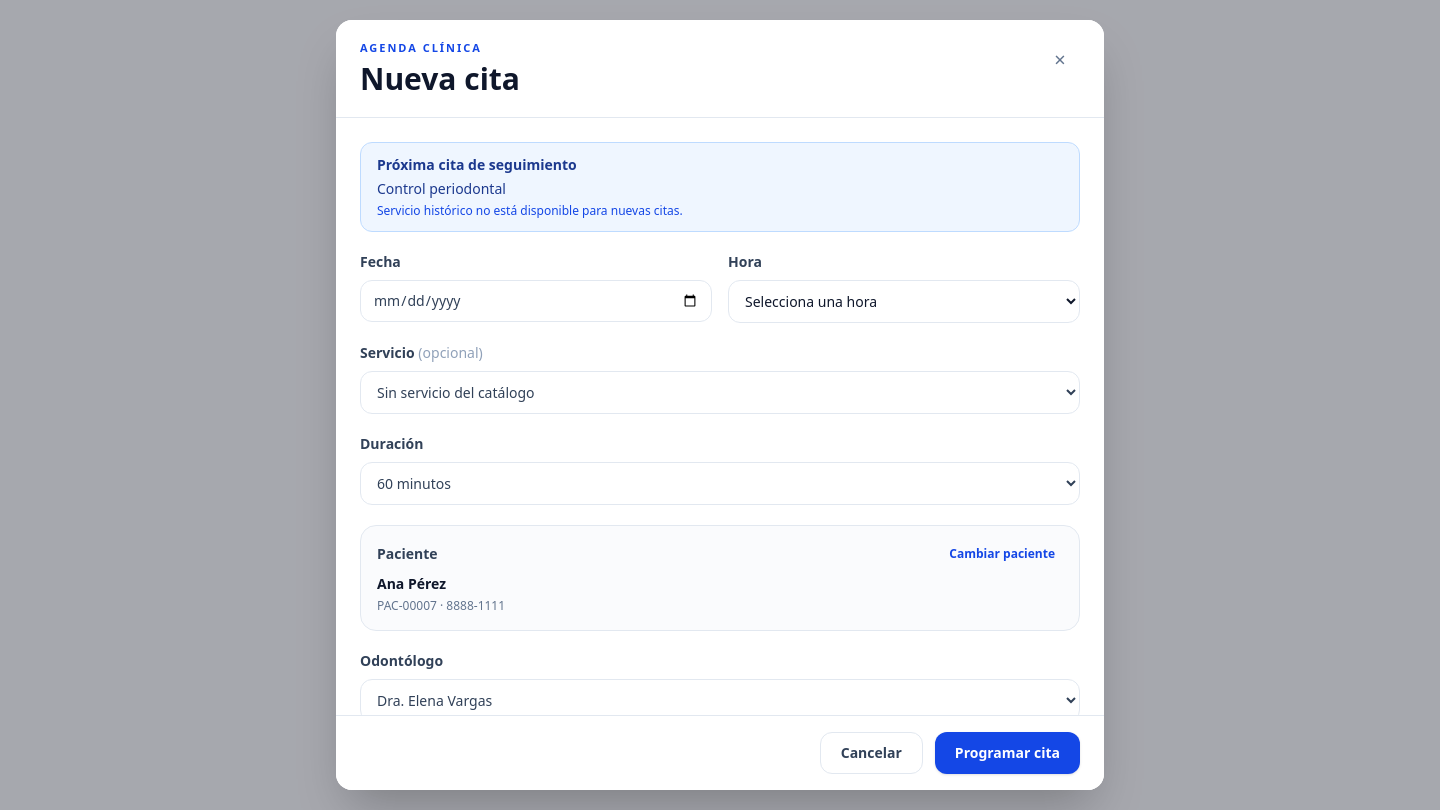
AppointmentFormPanel patient search › [HU-51] keeps inactive historical service as context and uses current duration after a service change
The image size is (1440, 810).
Expected: the text "Servicio histórico no está disponible para nuevas citas." is shown, x1=377 y1=202 x2=683 y2=218
Select "Control activo" in the dropdown labelled "Servicio (opcional)": (720, 392) x1=360 y1=370 x2=1080 y2=414
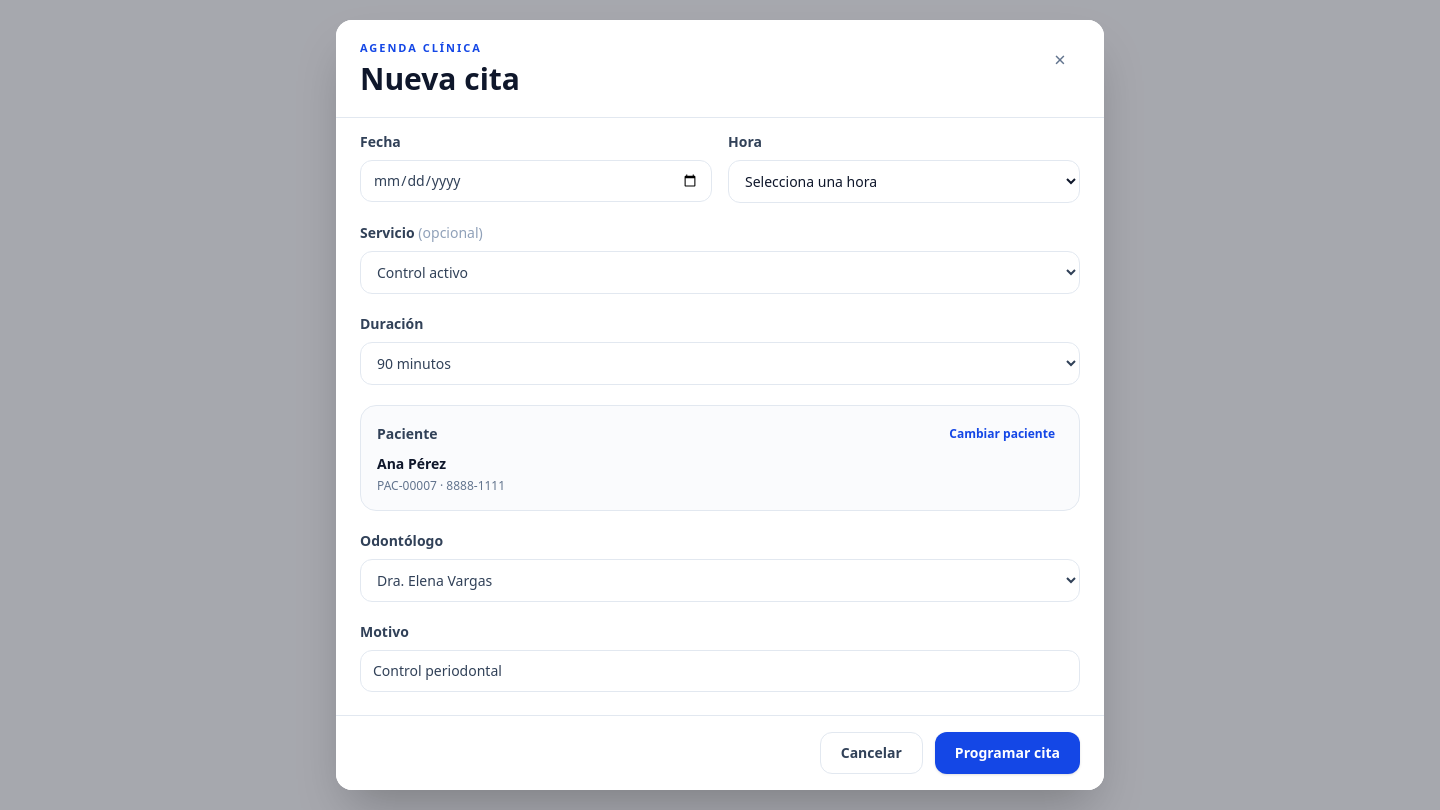
Expected: the dropdown labelled "Duración" shows "90 minutos", x1=360 y1=342 x2=1080 y2=384
Expected: the field labelled "Motivo" holds "Control periodontal", x1=360 y1=650 x2=1080 y2=692
